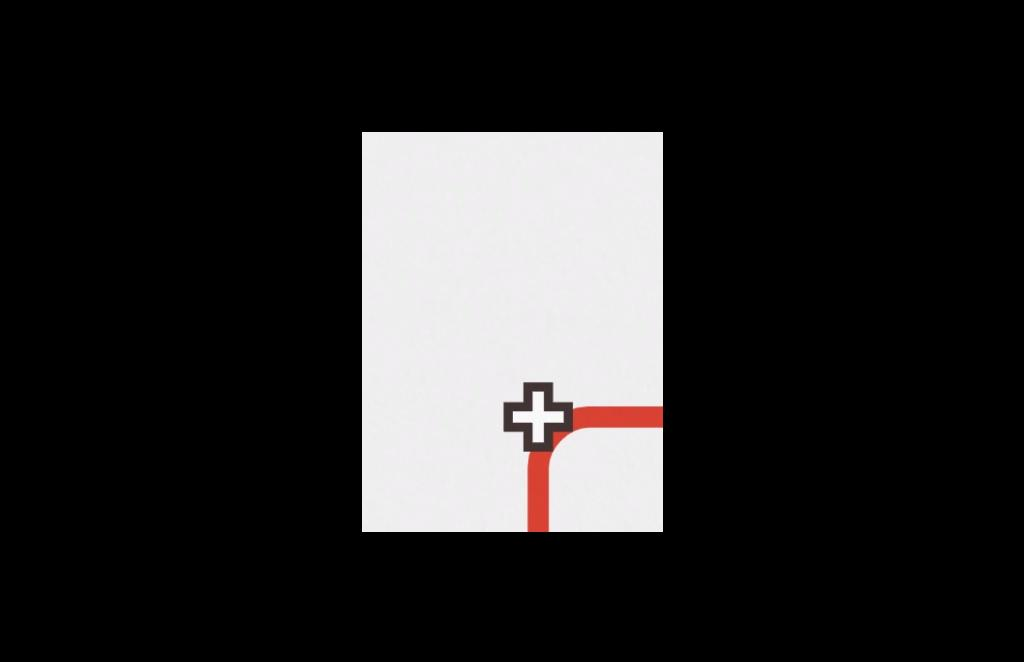connected_station: (496, 373, 592, 477)
